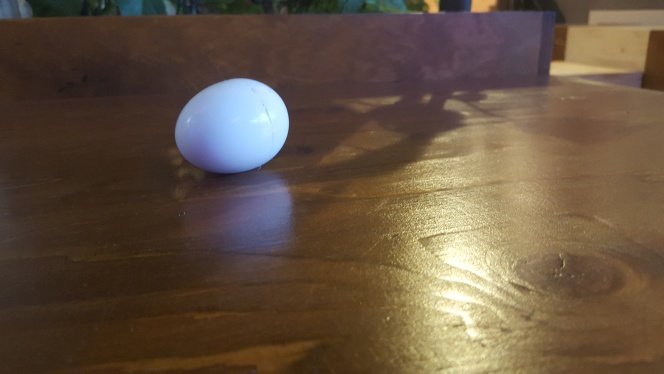egg: (172, 76, 292, 177)
